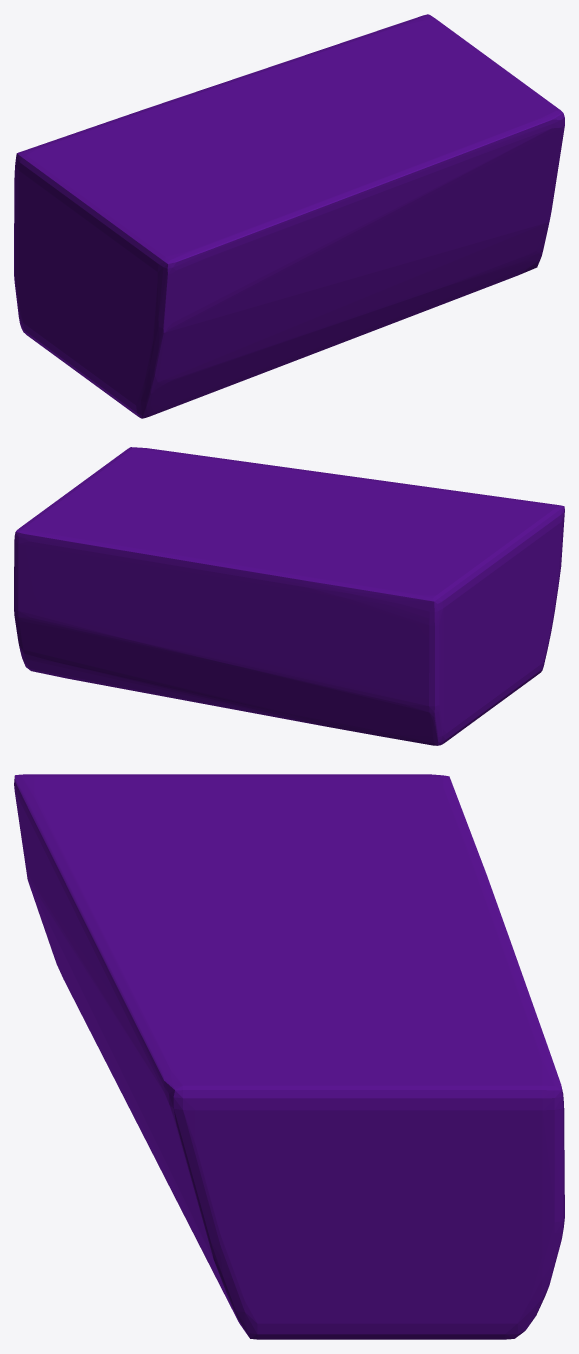
Rendered from right-elbow-0_part_27.obj.
3 renders of one model, top to bottom at view 1: azimuth 30°, elevation 25°; view 2: azimuth 150°, elevation 25°; view 3: azimuth 270°, elevation 25°, orthographic. The views are drawn at different scales.
Bounding box in the file's own units: 0.0556 × 0.0204 × 0.0405.
